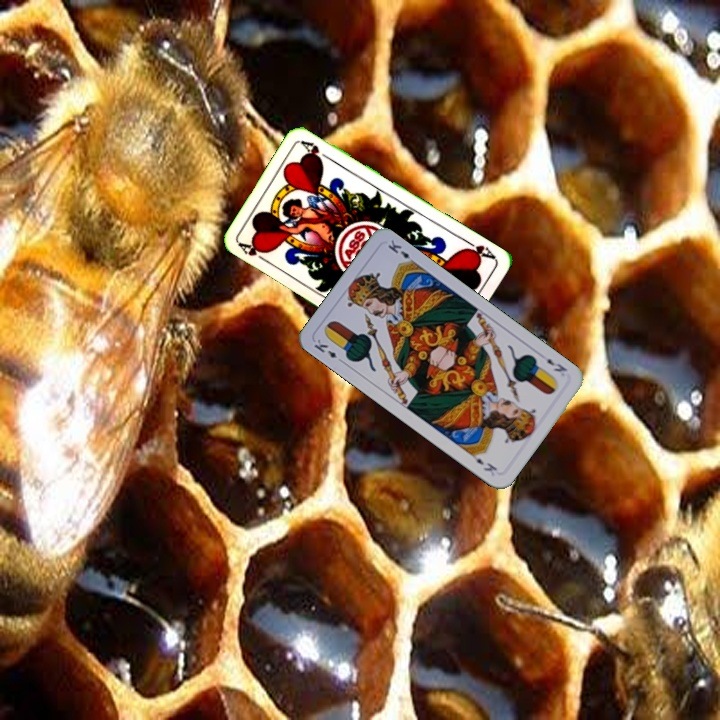EK: (310, 335, 347, 366), (542, 354, 570, 375)
HA: (235, 238, 273, 266), (460, 235, 497, 262)
